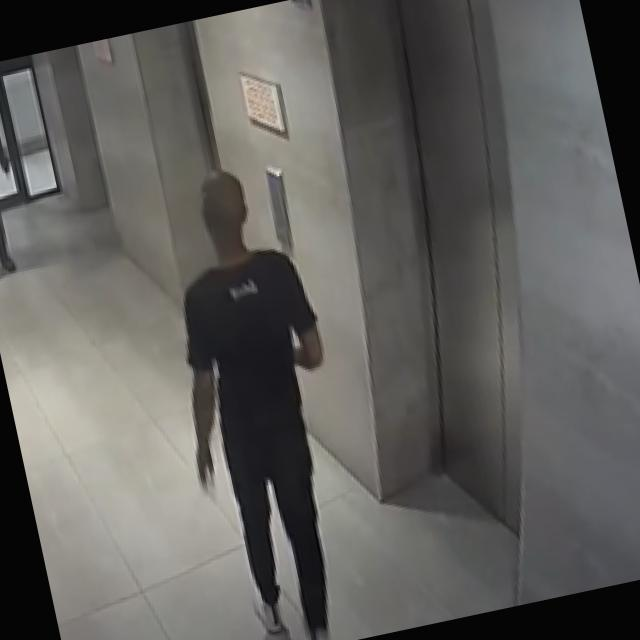person: (138, 153, 383, 640)
